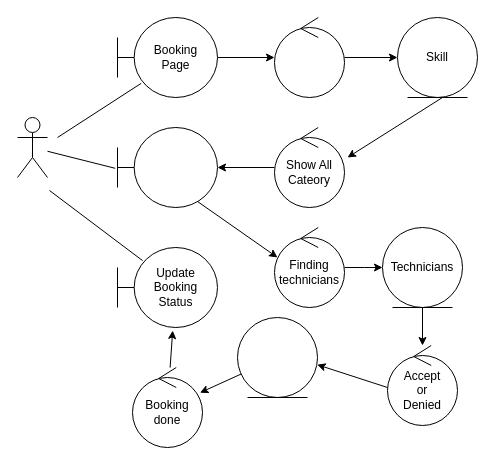
Some shapes in this 495 by 465 pixel diagram are drawn without their labels. Here are the shapes that lost their labels. From the top down, the box of each, then its label:
(274, 16, 344, 98): Get All Category
(16, 116, 48, 178): User
(116, 126, 218, 208): Showing All Category
(236, 316, 318, 398): Booking
